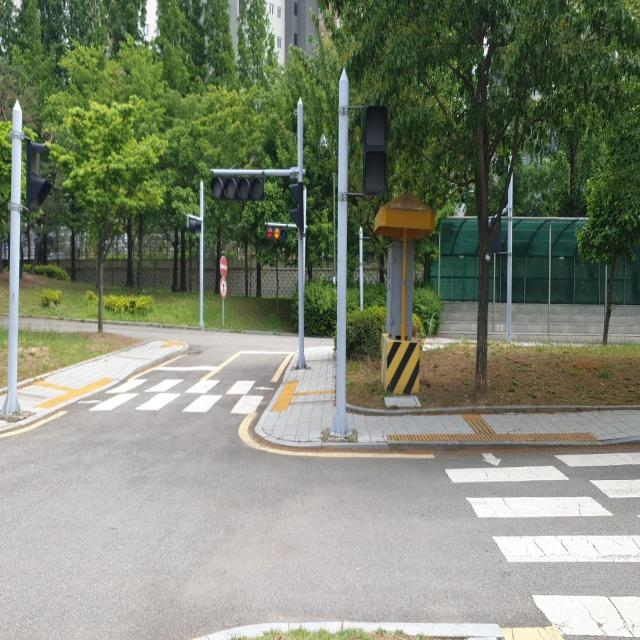횡단보도: (442, 448, 639, 640), (87, 368, 278, 424)
